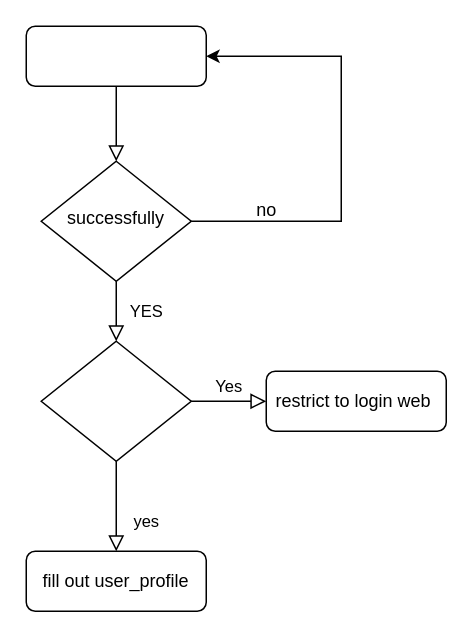
This 473x638 diagram has some shape labels left out. Each missing label, with the centre of its shape:
"login" belongs at (x=115, y=400).
"register" belongs at (x=115, y=55).
